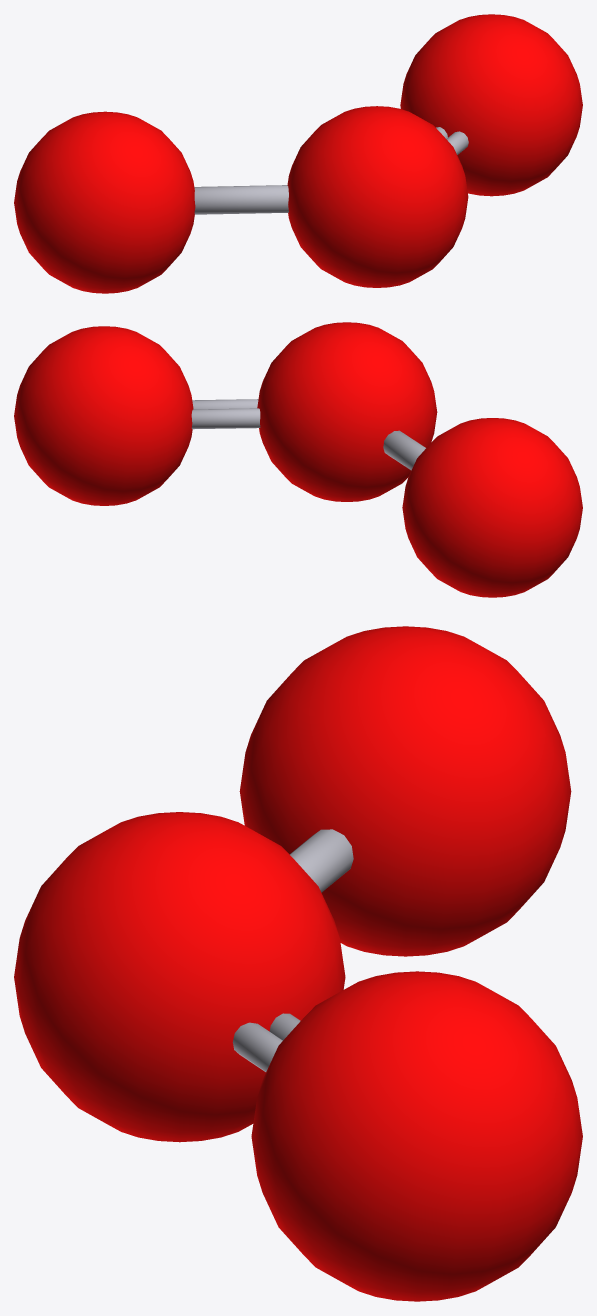
File: ozone.glb
The picture shows the model from 3 angles, top to bottom: view 1: azimuth 30°, elevation 25°; view 2: azimuth 150°, elevation 25°; view 3: azimuth 270°, elevation 25°; orthographic projection. The views are drawn at different scales.
Parts seen in each view (by area): view 1: O0, O1, O2, bond0-0; view 2: O0, O2, O1, bond1-0, bond0-0, bond1-1; view 3: O2, O0, O1, bond0-0, bond1-1.
Boxes of the visible parts, bbox=[...] form: O0: bbox=[14, 111, 195, 293]; O1: bbox=[287, 106, 468, 287]; O2: bbox=[400, 14, 582, 196]; bond0-0: bbox=[194, 185, 288, 214]; O0: bbox=[402, 418, 582, 597]; O2: bbox=[14, 326, 193, 505]; O1: bbox=[257, 322, 437, 501]; bond1-0: bbox=[191, 408, 260, 429]; bond0-0: bbox=[383, 430, 425, 470]; bond1-1: bbox=[192, 399, 258, 409]; O2: bbox=[251, 971, 582, 1301]; O0: bbox=[239, 626, 571, 956]; O1: bbox=[14, 812, 345, 1142]; bond0-0: bbox=[289, 829, 353, 892]; bond1-1: bbox=[232, 1022, 282, 1071].
Bounding box in the file's own units: 3.16 × 0.912 × 1.57.
